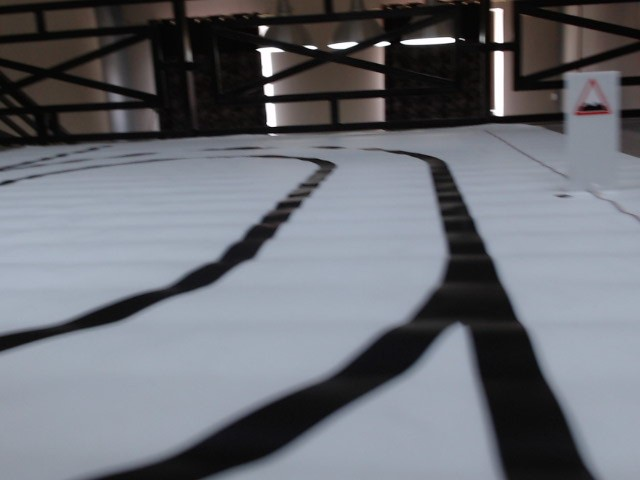Nerov: (571, 77, 616, 119)
